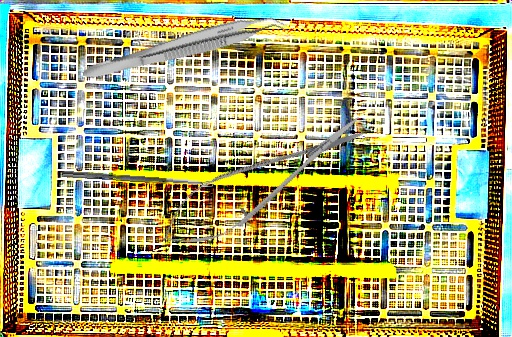Micro Scissor: (148, 99, 378, 265)
Surgical Spoon: (61, 170, 214, 189)
Tissue Forceps: (80, 5, 289, 93)
